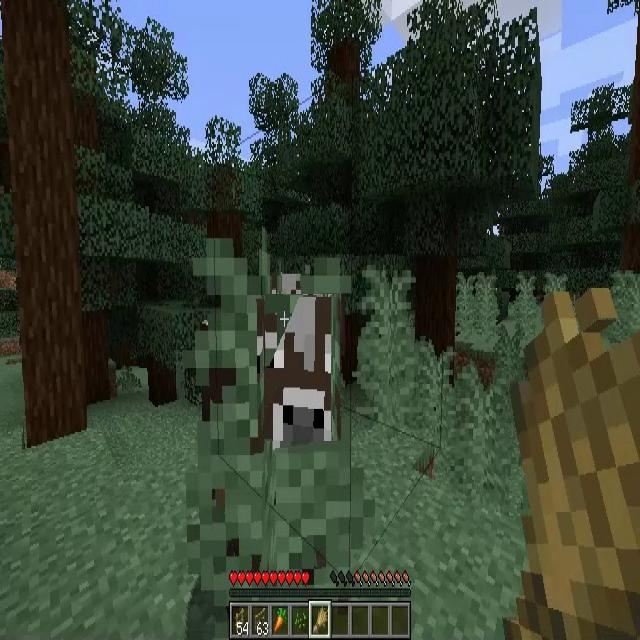cow: (264, 294, 340, 441)
